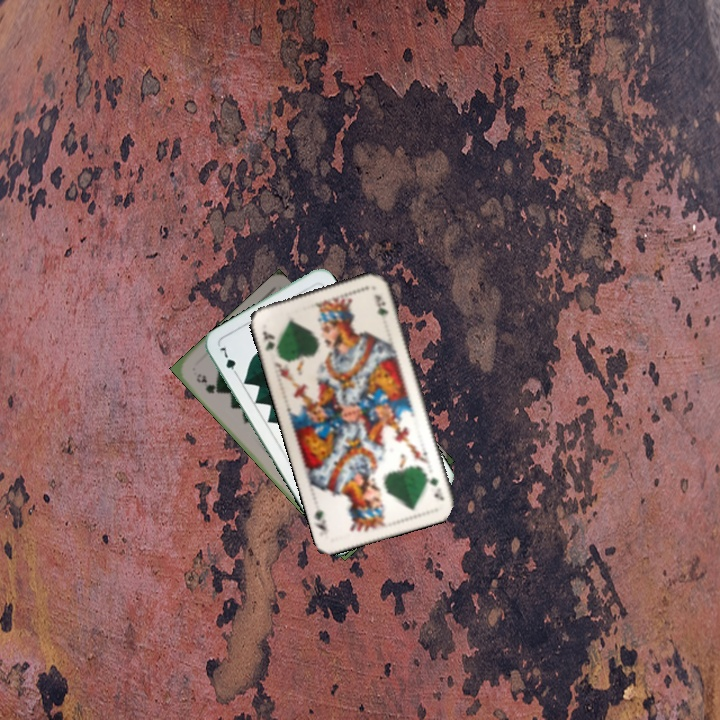G7: (215, 342, 241, 379)
G9: (192, 369, 222, 396)
GK: (426, 472, 446, 504), (258, 327, 278, 353)
